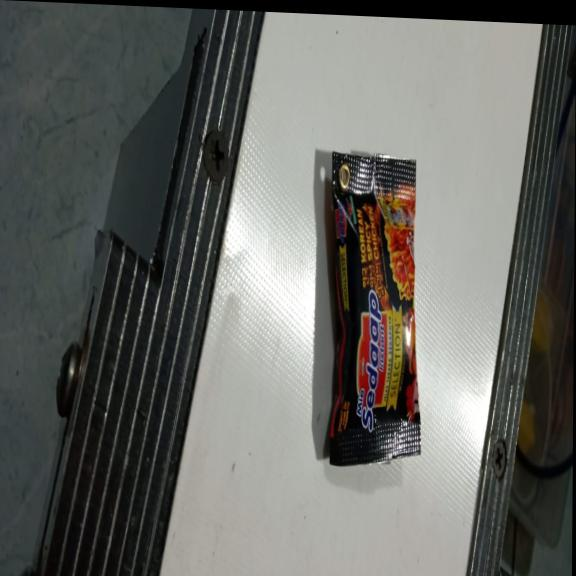Plastik: (327, 150, 424, 470)
